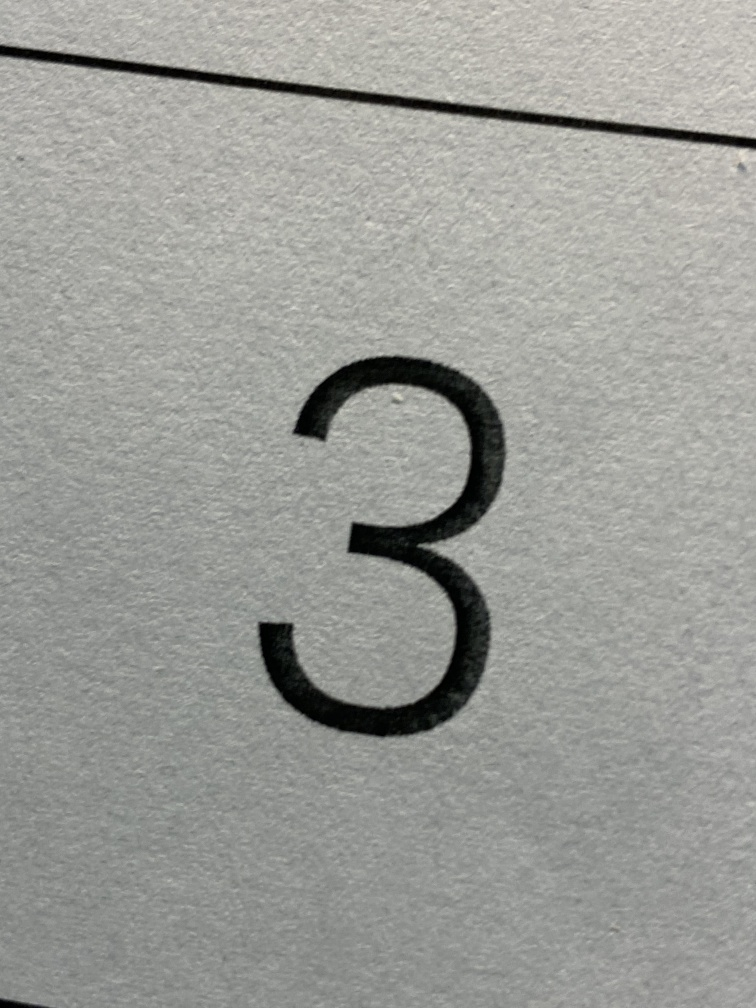three: (213, 323, 564, 792)
